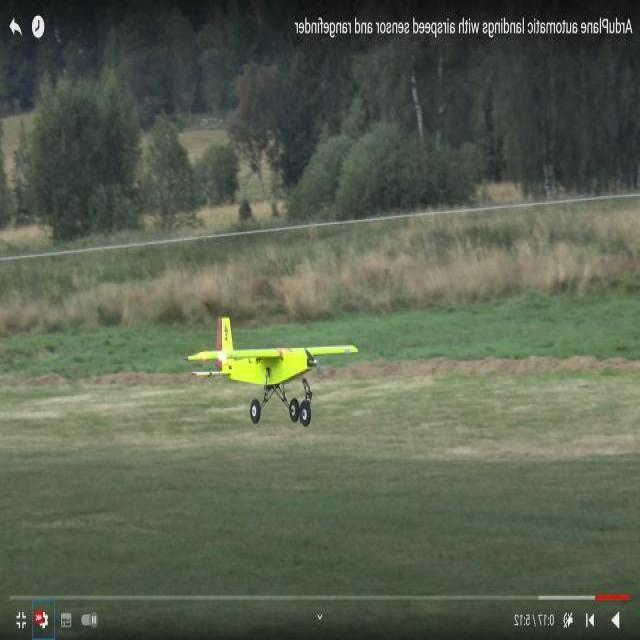iha: (182, 340, 370, 400)
